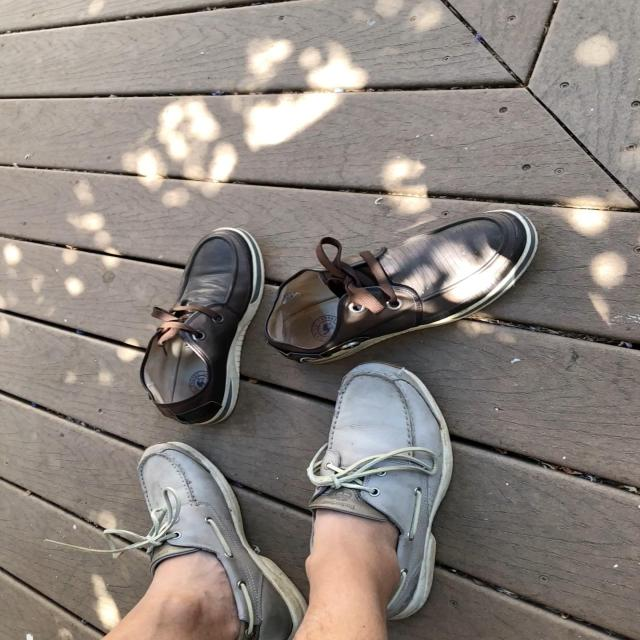shoe: (306, 364, 452, 622), (135, 442, 302, 640)
